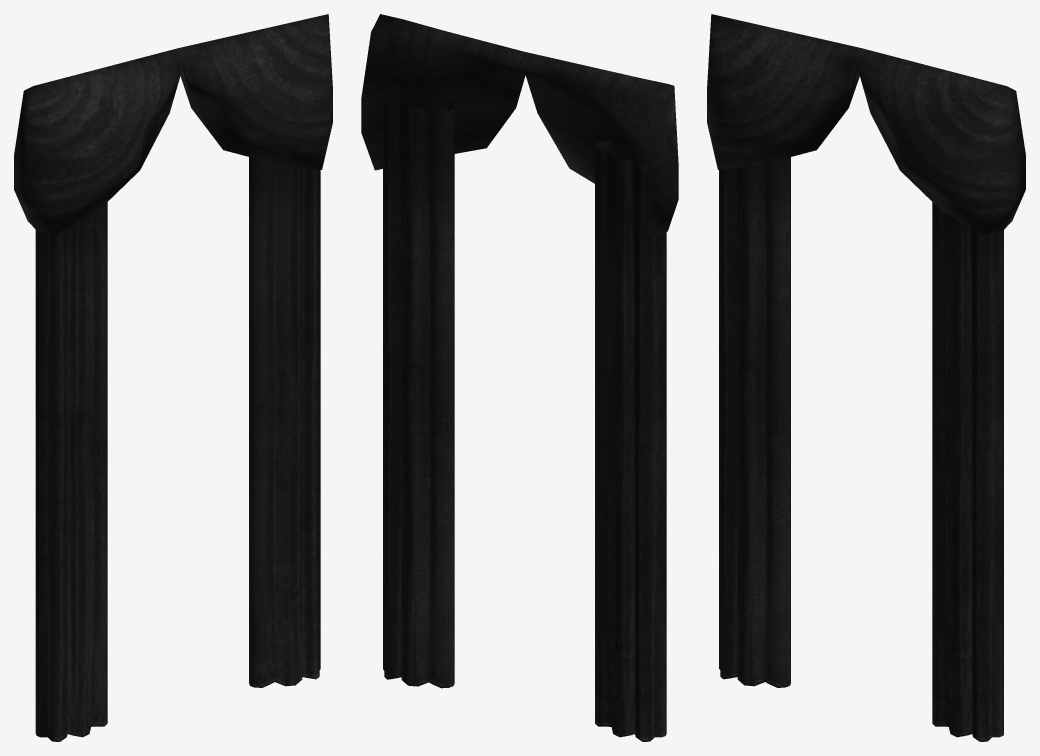
File: curtain12_long.dae
3 renders of one model, left to right at view 1: azimuth 30°, elevation 25°; view 2: azimuth 150°, elevation 25°; view 3: azimuth 330°, elevation 25°, orthographic.
Visible parts, largest first — view 1: polySurface191; view 2: polySurface191; view 3: polySurface191.
Boxes of the visible parts, x1,y1,x2,y2 form: polySurface191: (14,14,332,741); polySurface191: (361,14,678,741); polySurface191: (707,14,1025,741).
Size of what is drawn, in the model's own units: 2.5 by 5.08 by 0.4673.
